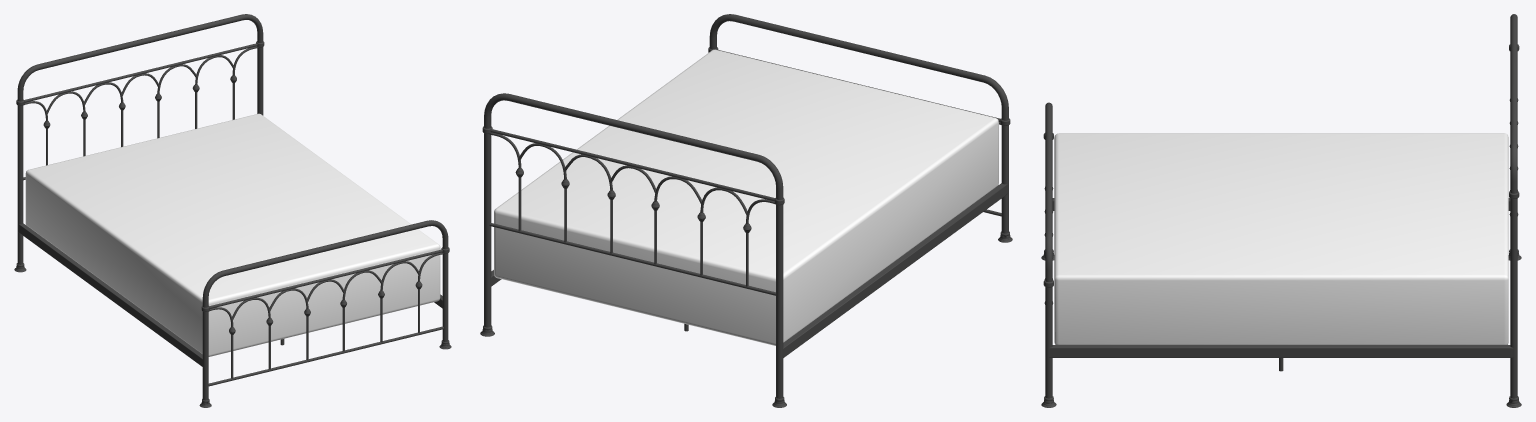
File: B075QL8KBL.glb
3 views of the same model, side by side, from view 1: azimuth 30°, elevation 25°; view 2: azimuth 150°, elevation 25°; view 3: azimuth 270°, elevation 25° (orthographic). The views are drawn at different scales.
Visible parts, largest first — view 1: B075QL8KBL; view 2: B075QL8KBL; view 3: B075QL8KBL.
Boxes of the visible parts, x1,y1,x2,y2 form: B075QL8KBL: (14,14,451,407); B075QL8KBL: (480,14,1012,407); B075QL8KBL: (1041,14,1521,407).
Bounding box in the file's own units: 1.66 × 1.28 × 2.2.
Materials: 1 (1 with a texture image).
